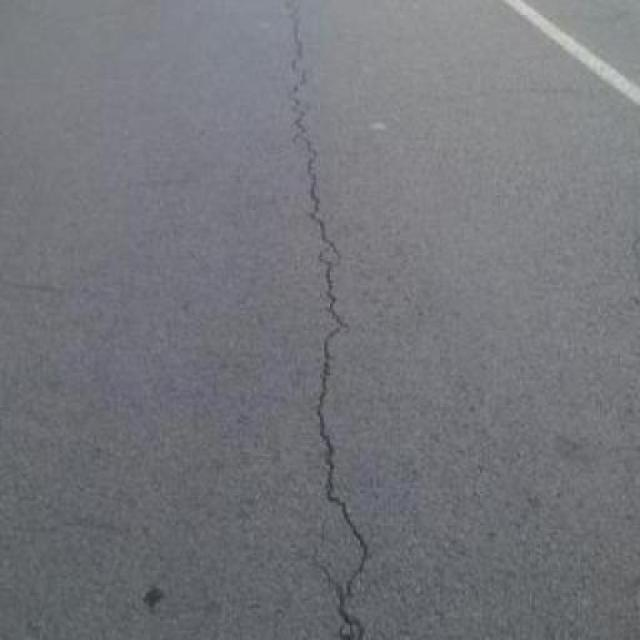Crack: (256, 0, 382, 640)
